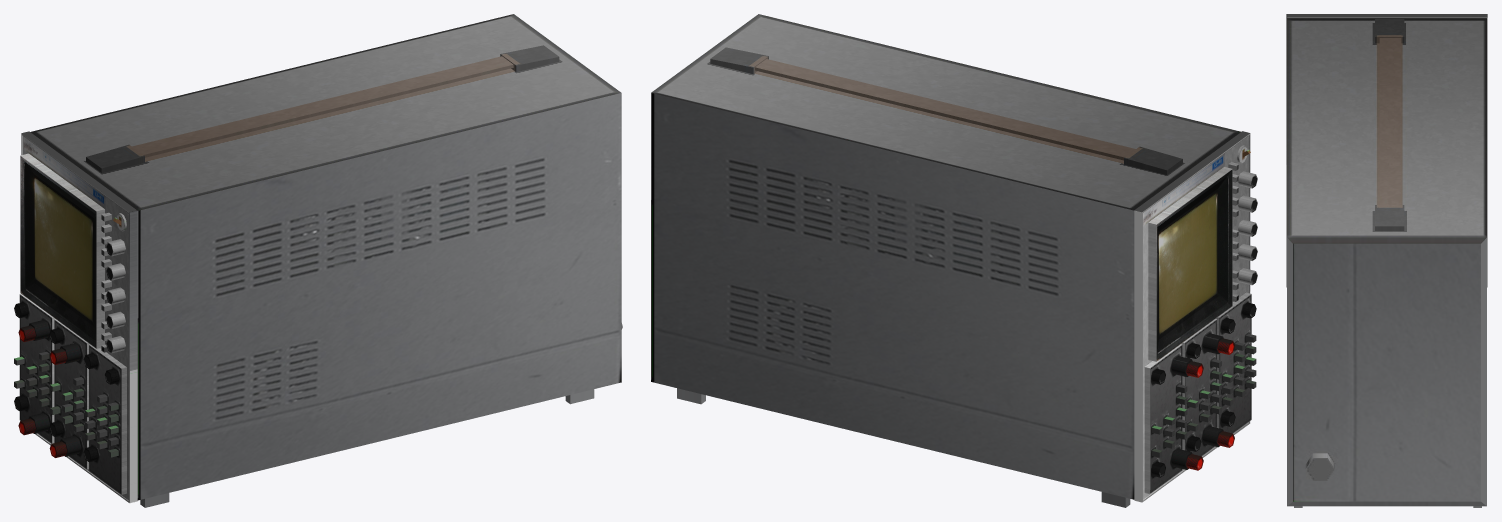
The model's file is scope.FBX.
3 views of the same model, side by side, from view 1: azimuth 30°, elevation 25°; view 2: azimuth 150°, elevation 25°; view 3: azimuth 270°, elevation 25° (orthographic). The views are drawn at different scales.
Visible parts, largest first — view 1: Box52; view 2: Box52; view 3: Box52.
Boxes of the visible parts, x1,y1,x2,y2 form: Box52: (14,14,622,507); Box52: (651,14,1257,507); Box52: (1286,14,1487,507).
Size of the model in its own units: 662 by 367 by 233.
Materials: 1 (1 with a texture image).
